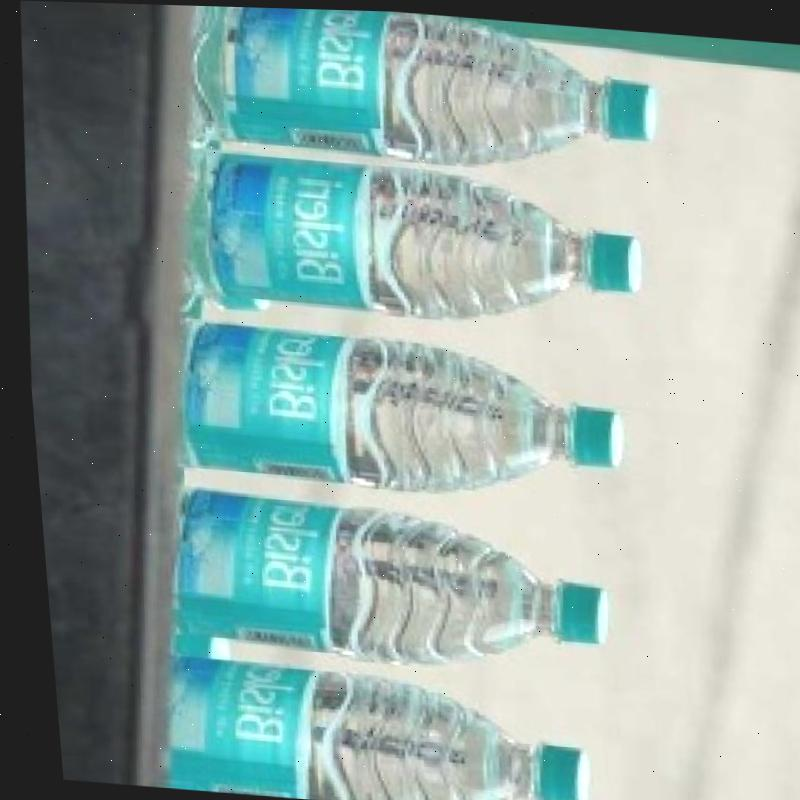botella: (167, 314, 625, 510), (161, 480, 606, 675), (178, 143, 646, 327), (171, 4, 663, 177), (148, 647, 586, 800)
